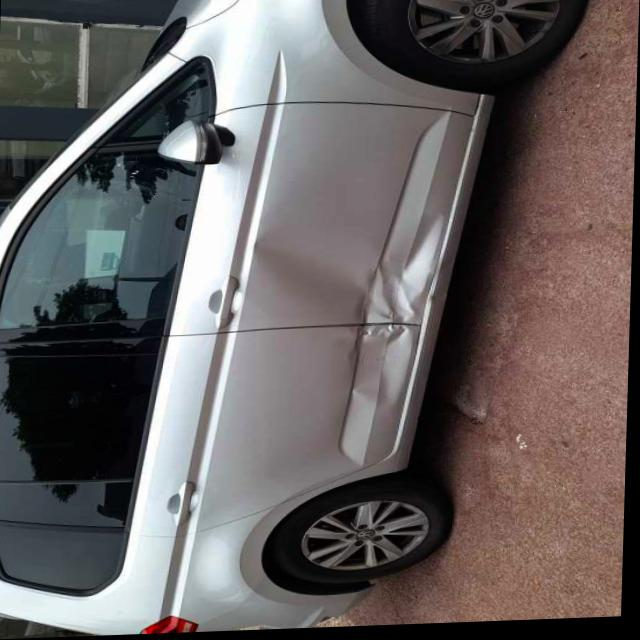porte-avant: (0, 95, 486, 343)
